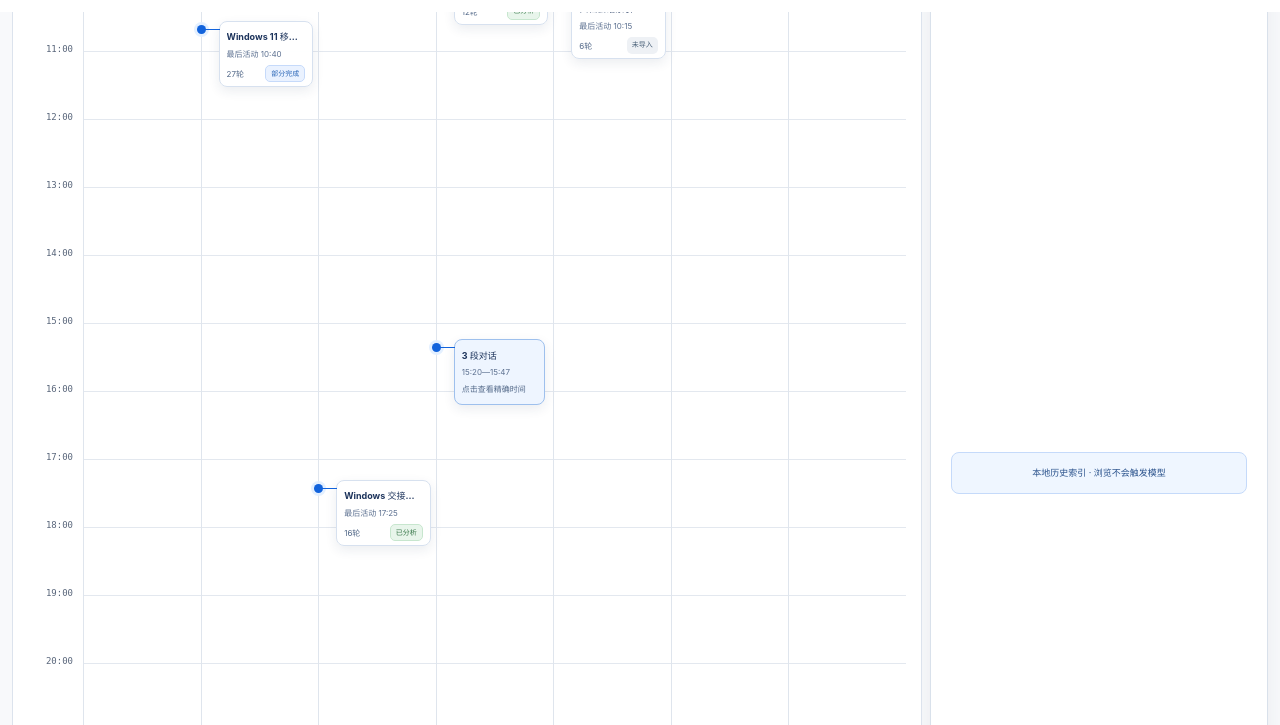
Test case: calendar presentation › renders a three-entry time cluster and exposes exact times in the detail list
(page scrolled)
Click the button "3 段对话 15:20—15:47 点击查看精确时间" at (500, 372), box [454,339,545,405]
(page scrolled)
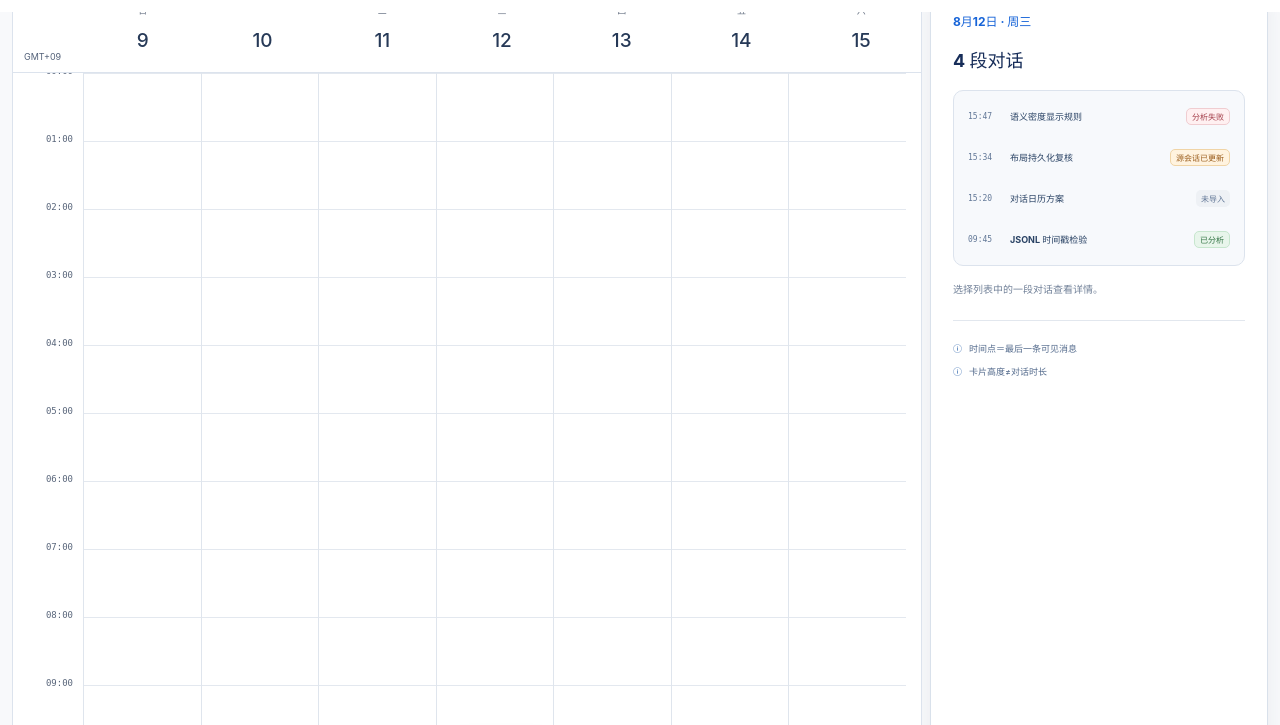
Expected: the text "15:20" is shown, [968,194,992,203]
Now the text "15:34" is shown, box [968,153,992,162]
Now the text "卡片高度≠对话时长" is shown, box [969,366,1047,377]
